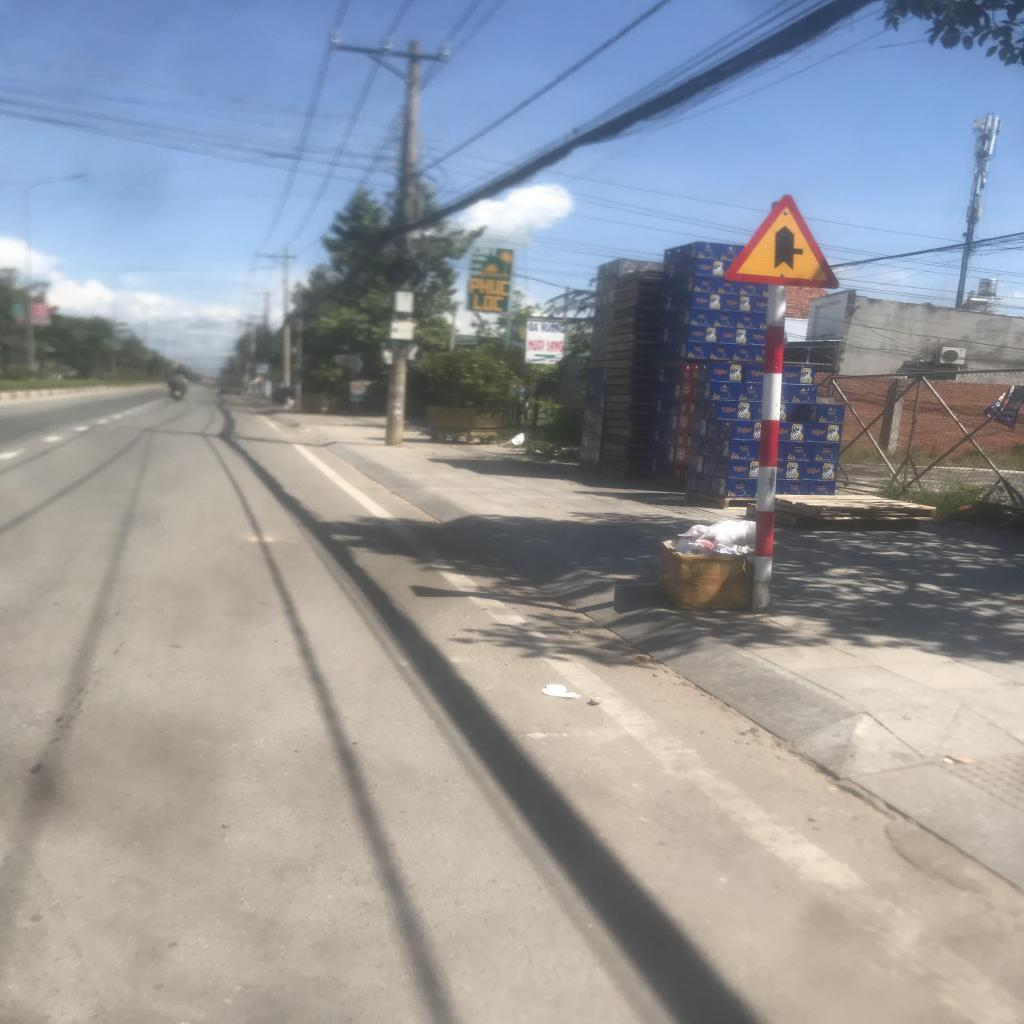giao_nhau_voi_duong_khong_uu_tien: (720, 192, 840, 290)
